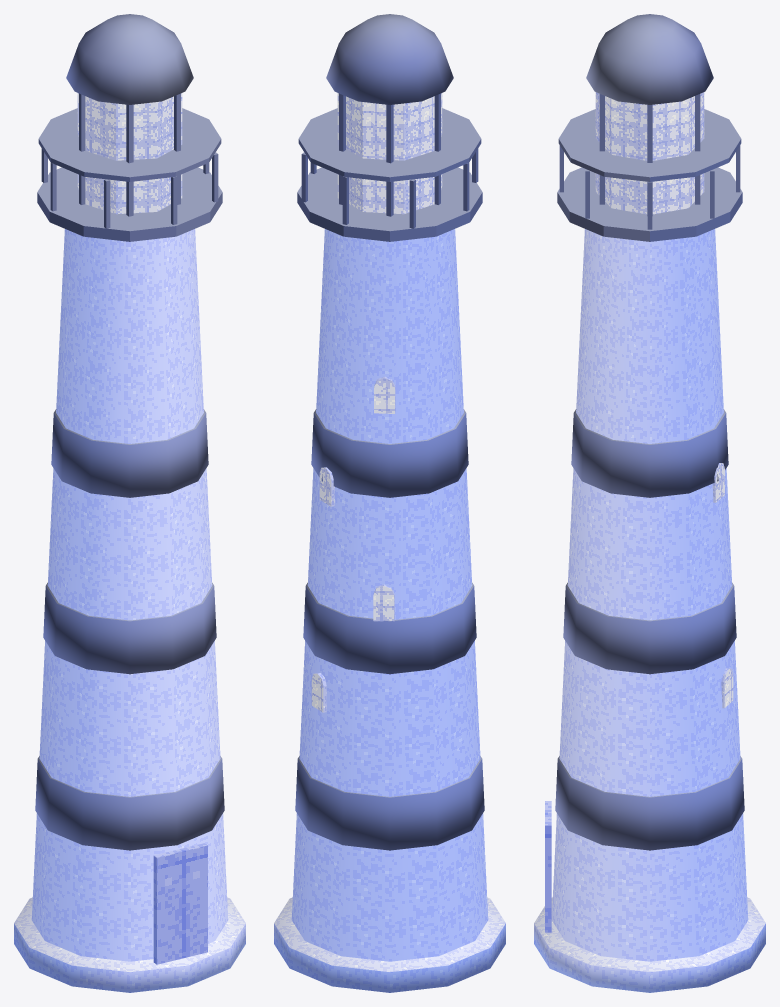
Rendered from arch.tower.glb.
3 renders of one model, left to right at view 1: azimuth 30°, elevation 25°; view 2: azimuth 150°, elevation 25°; view 3: azimuth 270°, elevation 25°, orthographic.
Parts seen in each view (by area): view 1: kit_tower_body, kit_tower_detail, kit_tower_glow; view 2: kit_tower_body, kit_tower_detail, kit_tower_glow; view 3: kit_tower_body, kit_tower_detail, kit_tower_glow.
Part boxes in pixels (bbox=[...]): kit_tower_body: bbox=[14, 229, 245, 992]; kit_tower_detail: bbox=[35, 14, 224, 964]; kit_tower_glow: bbox=[77, 93, 182, 214]; kit_tower_body: bbox=[274, 229, 505, 992]; kit_tower_detail: bbox=[295, 14, 484, 850]; kit_tower_glow: bbox=[311, 93, 442, 712]; kit_tower_body: bbox=[534, 229, 765, 992]; kit_tower_detail: bbox=[545, 14, 744, 932]; kit_tower_glow: bbox=[595, 92, 733, 708].
Bounding box in the file's own units: 3.54 × 15.56 × 3.54.
4 materials, 3 textured.
